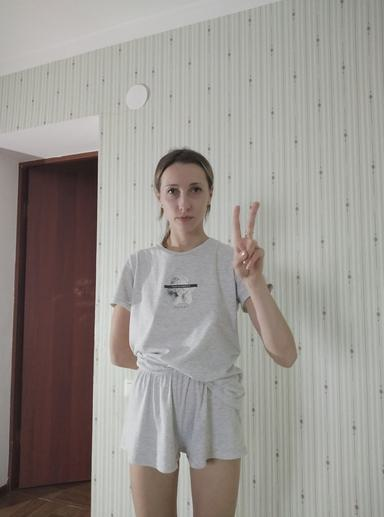peace: (230, 200, 267, 282)
